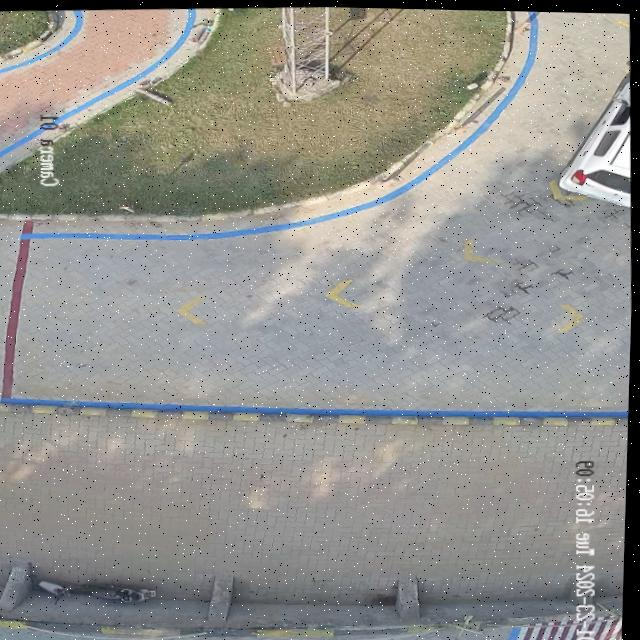car: (560, 76, 631, 204)
